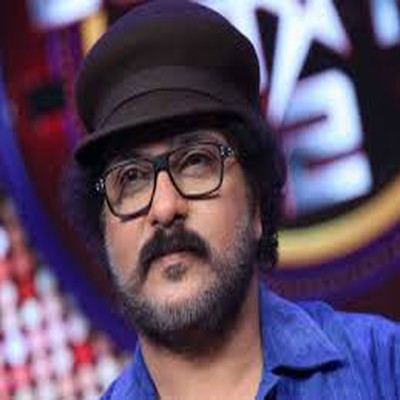eywear: (87, 119, 276, 224)
